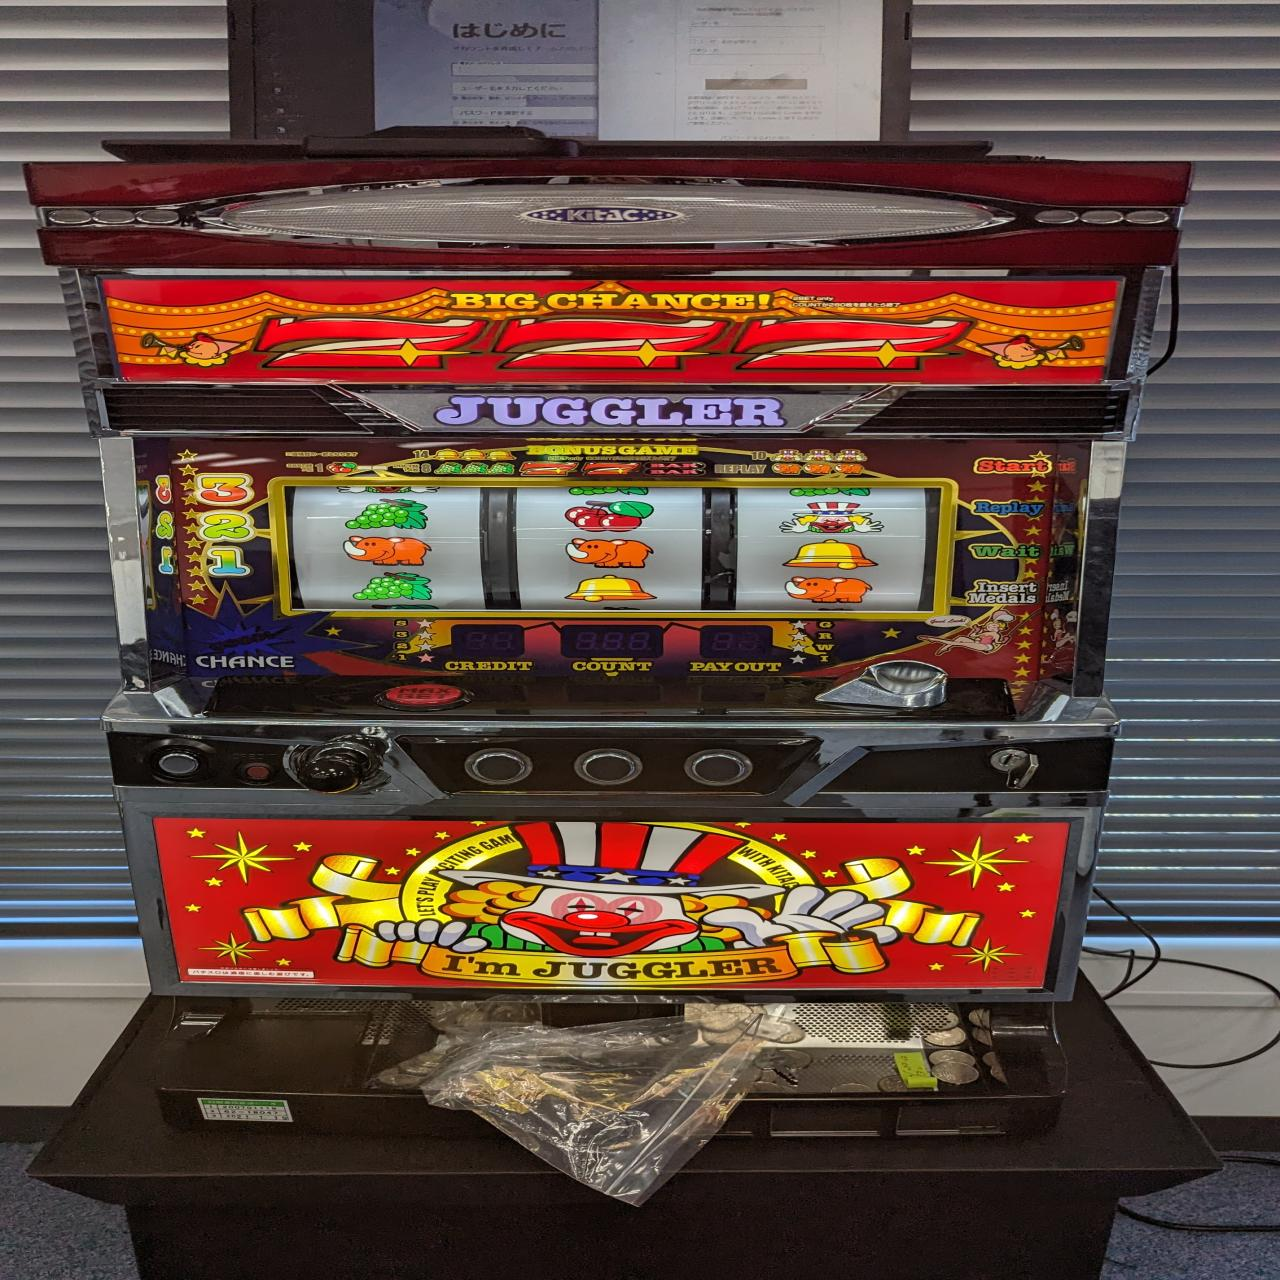Display: (277, 481, 945, 617)
bell: (778, 537, 883, 571), (561, 573, 660, 605)
cherry: (558, 498, 658, 532)
clown: (776, 501, 887, 533)
grape: (343, 497, 431, 532), (350, 570, 436, 602)
rhino: (563, 537, 667, 568), (336, 536, 441, 567), (778, 573, 876, 606)
